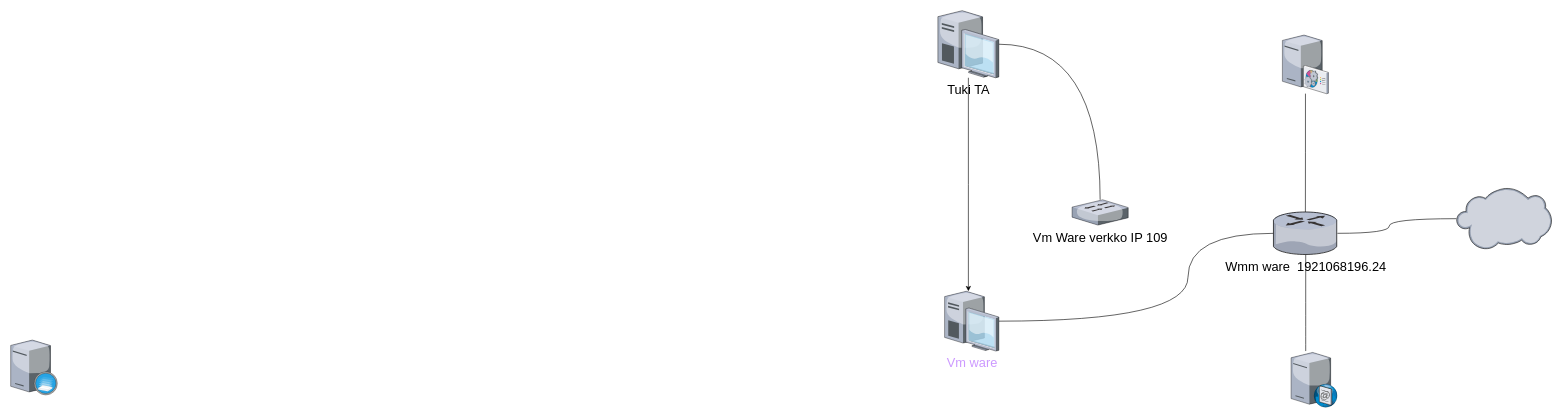
Image size: 1562x417. Some labels were removed from this diagram. Here are the shapes that lost their labels. From the top down, the box of each, then its label:
(1282, 35, 1328, 93): Vm ware palvelin 192168196.24
(1456, 187, 1551, 249): Internet
